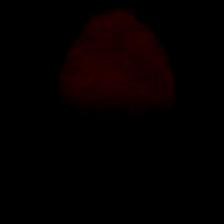fertile: (55, 9, 175, 170)
